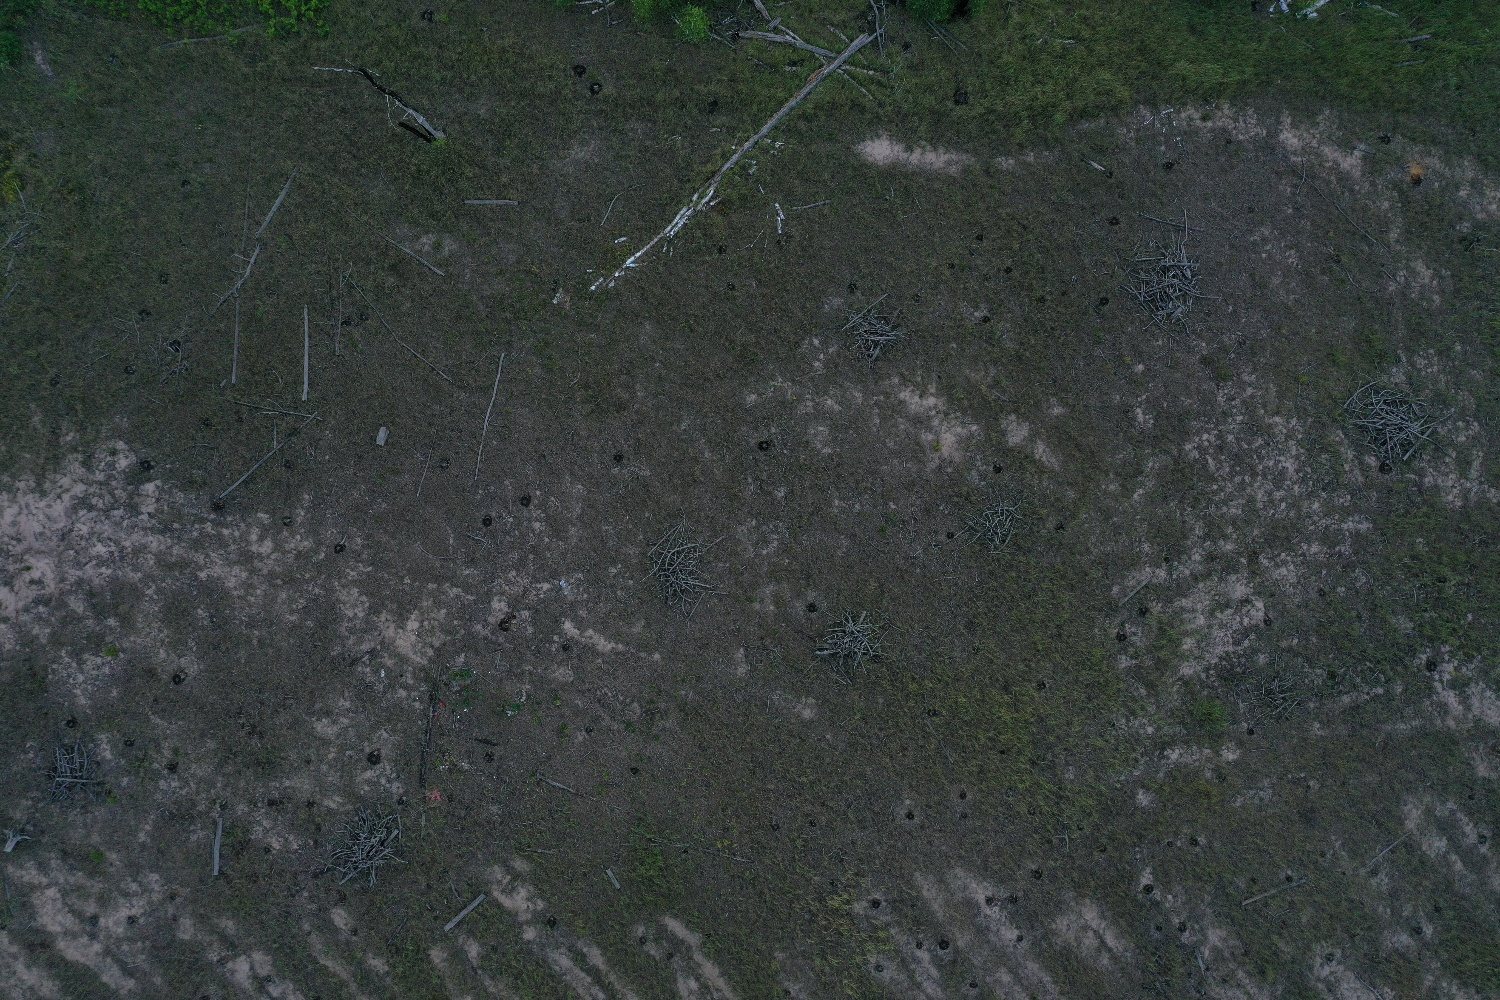branches: (1121, 215, 1221, 335), (1339, 377, 1456, 463), (647, 506, 730, 621), (315, 805, 408, 888), (811, 610, 892, 677), (840, 294, 908, 366), (47, 731, 103, 805), (959, 498, 1027, 554)
